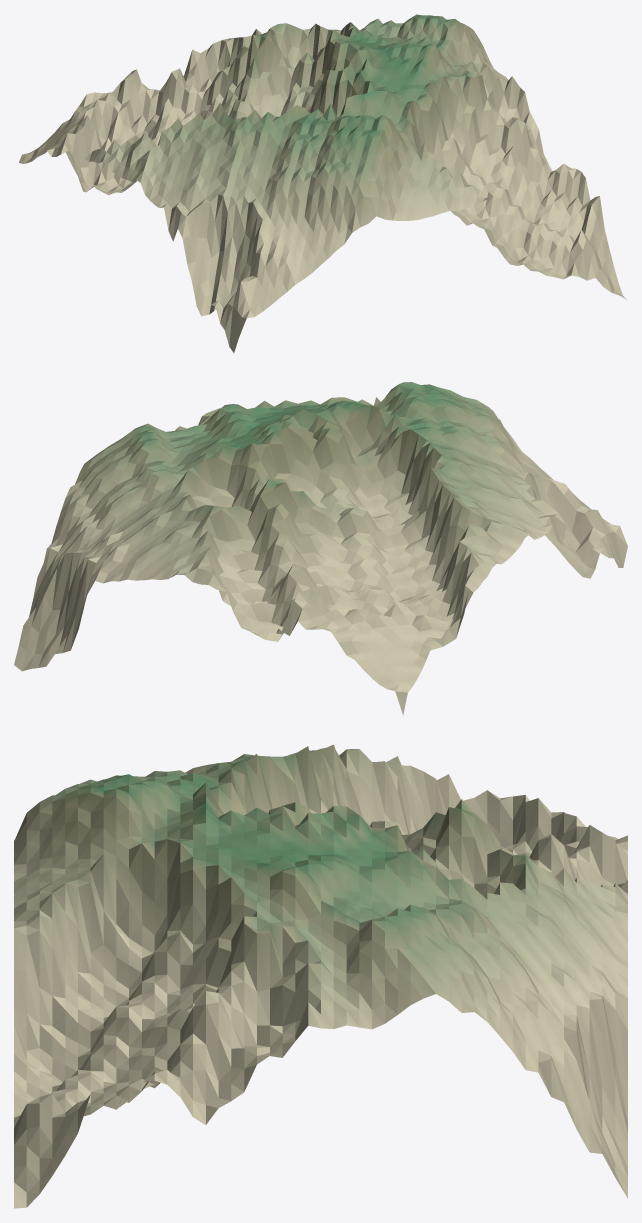
The model's file is island_lod1.glb.
3 renders of one model, top to bottom at view 1: azimuth 30°, elevation 25°; view 2: azimuth 150°, elevation 25°; view 3: azimuth 270°, elevation 25°, orthographic. The views are drawn at different scales.
Parts seen in each view (by area): view 1: world; view 2: world; view 3: world.
Part boxes in pixels (<box>): world: <box>19,14,626,352</box>; world: <box>14,382,627,715</box>; world: <box>14,744,627,1208</box>.
Bounding box in the file's own units: 2 × 1.04 × 2.
